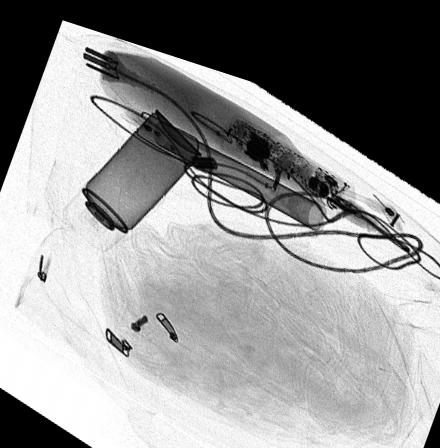Sprayer: (63, 97, 200, 245)
